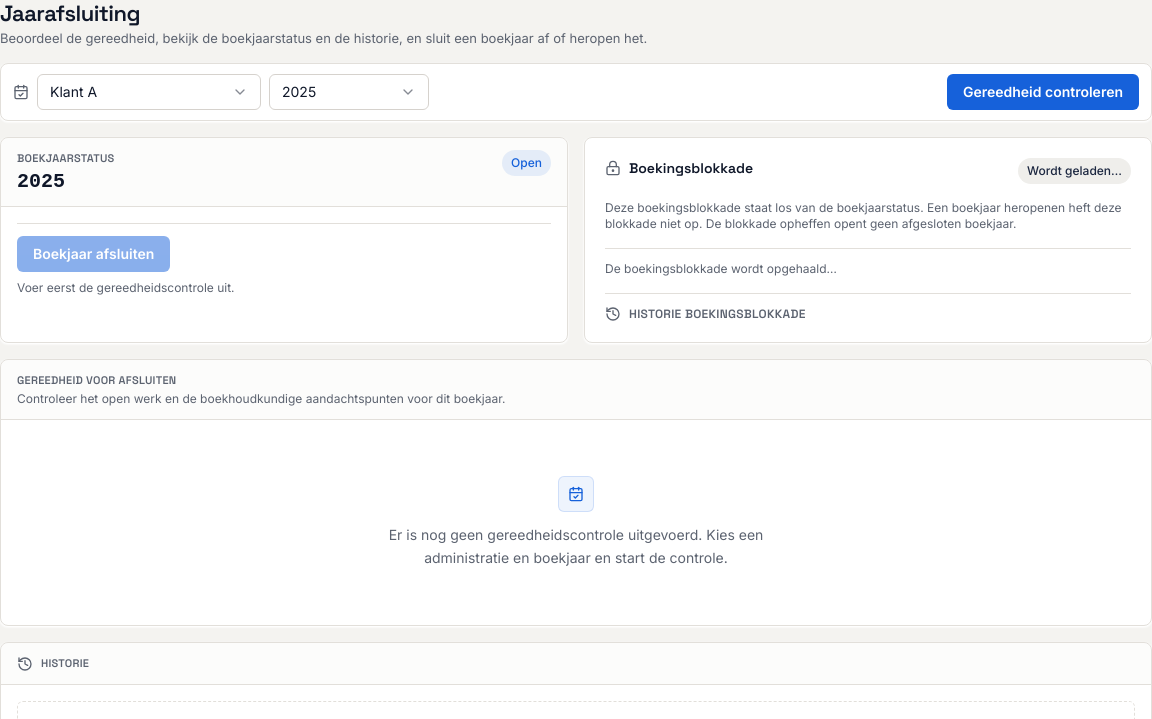
Test: Wanneer verschijnt de afsluitknop › 6. een te lage rol krijgt uitleg in plaats van een knop
Click the button with test id "jaar-uitvoeren" at (1043,92), box [947, 74, 1139, 110]
(page scrolled)
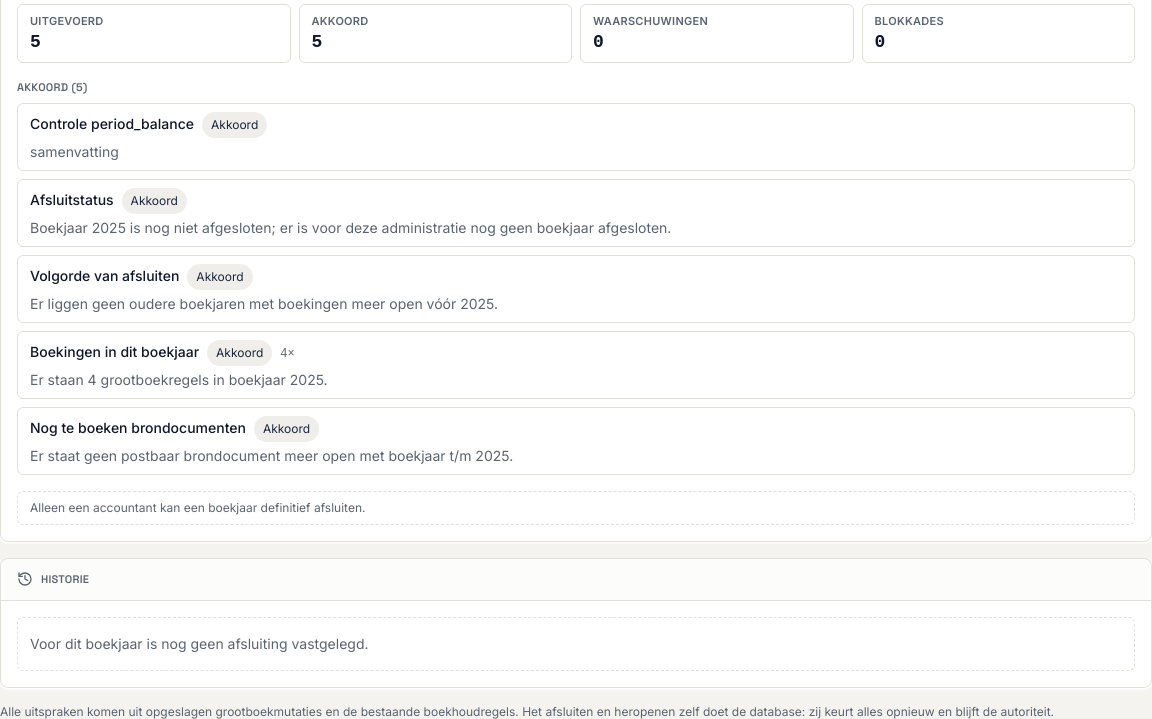
Check: the text with test id "jaar-geen-actie" shows "accountant", box [30, 500, 365, 515]
